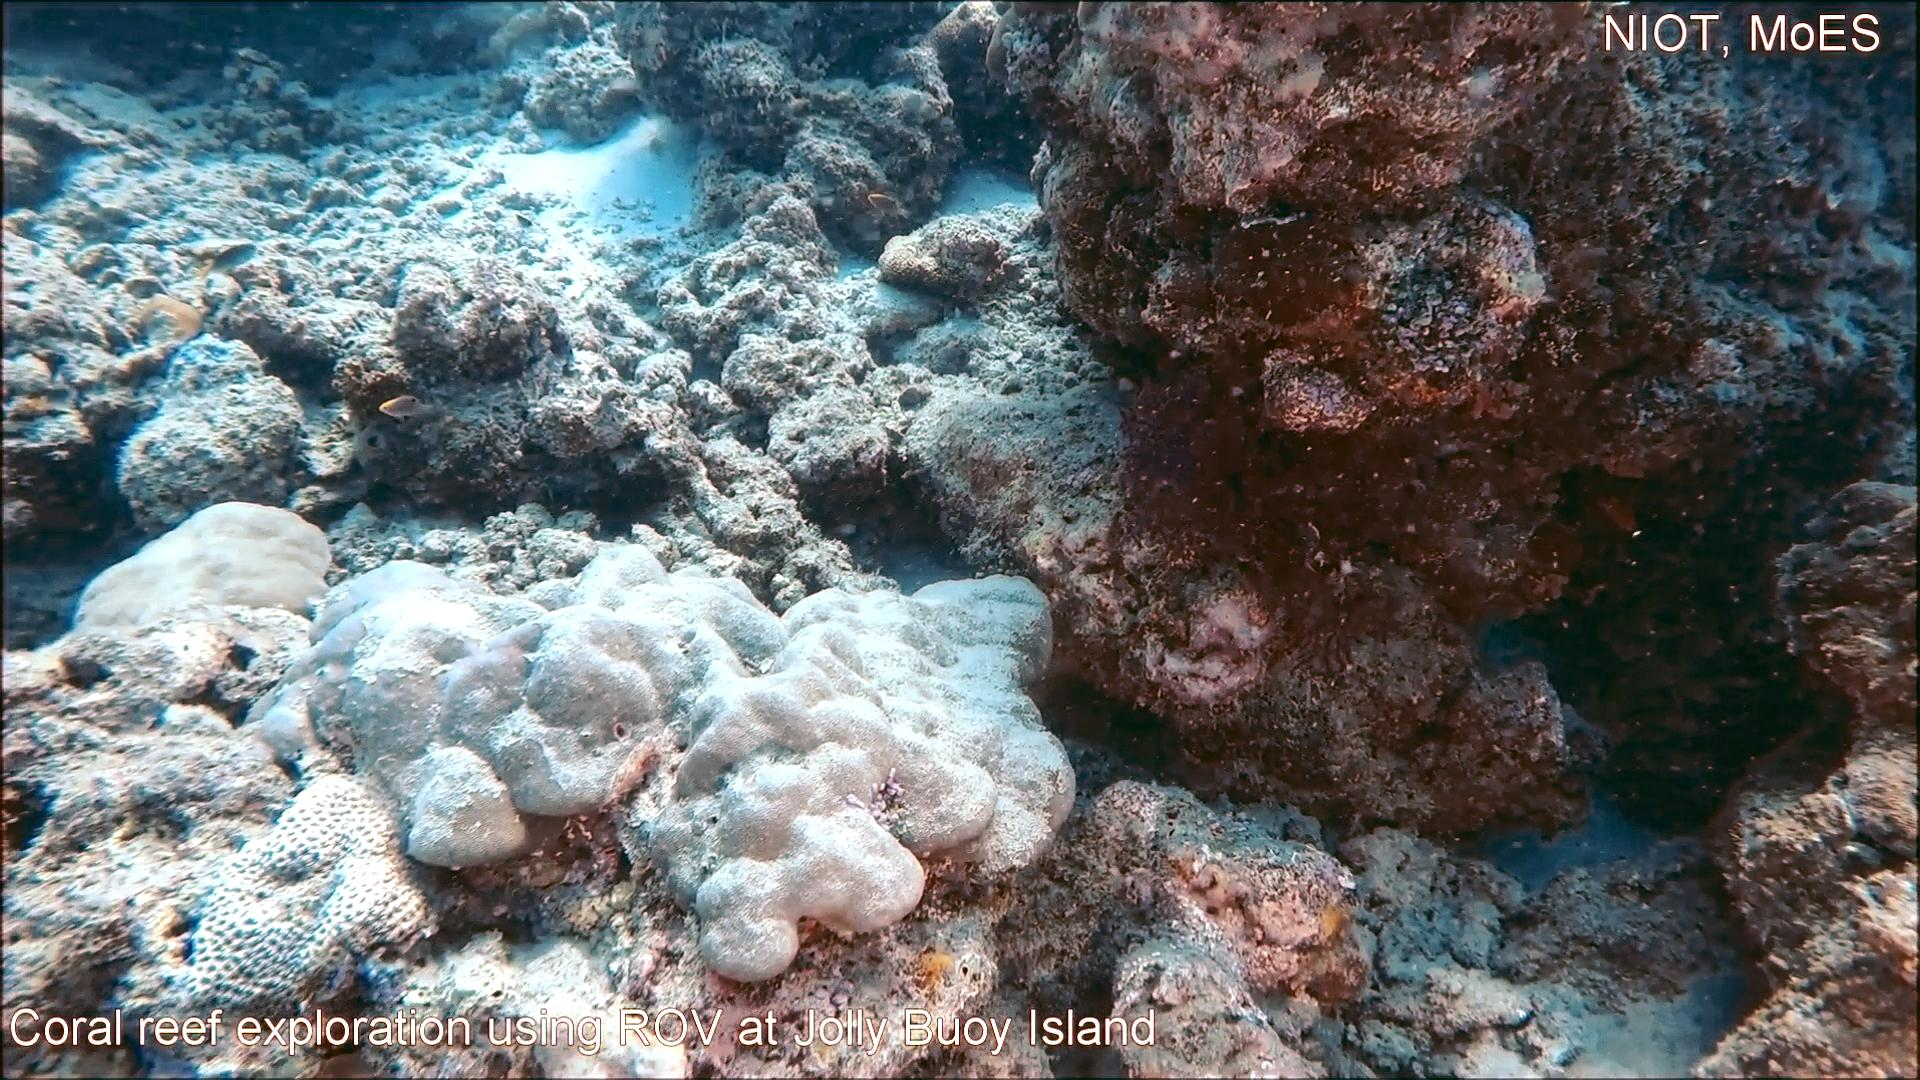Goniastrea-Goniastrea pectinata: (184, 758, 442, 1022)
Gorgonian-Purple Plexaura: (1114, 360, 1419, 692)
Porites-Porites pukoensis: (522, 532, 1080, 986)
